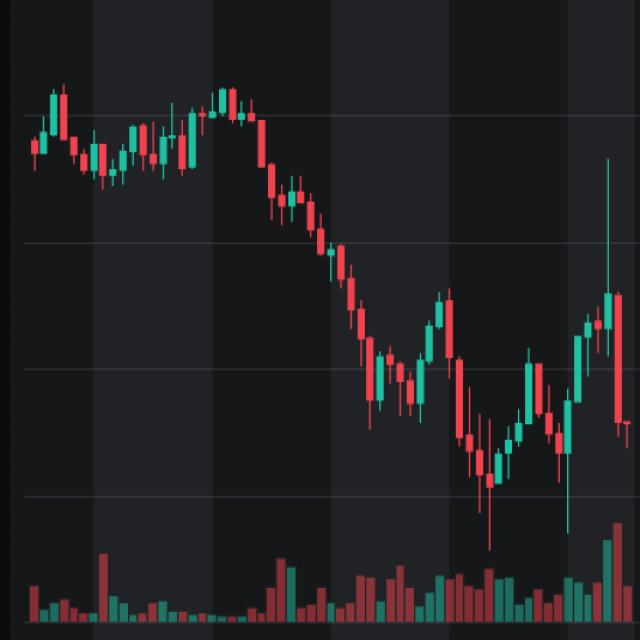Inverse-Head-Shoulders: (270, 148, 636, 486)
Support-breakout: (181, 88, 378, 419)
